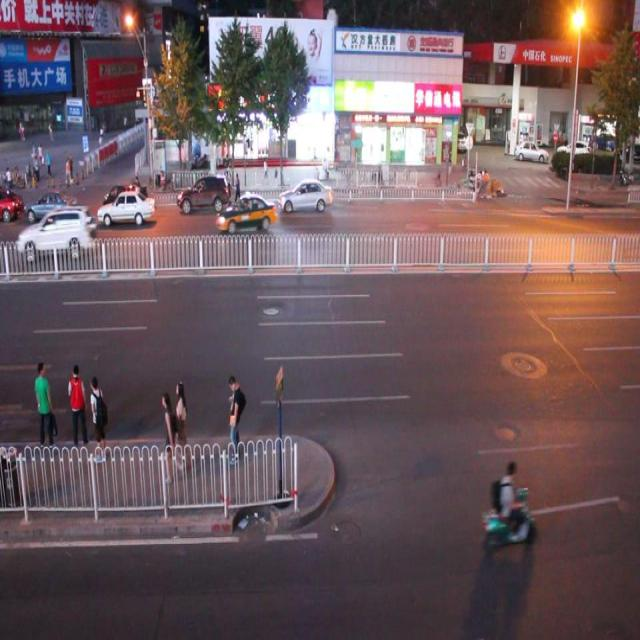car: (17, 204, 90, 259), (217, 190, 275, 232), (176, 171, 230, 212), (99, 188, 154, 227), (280, 177, 332, 212), (24, 189, 77, 221), (104, 180, 140, 217), (1, 186, 21, 221)
